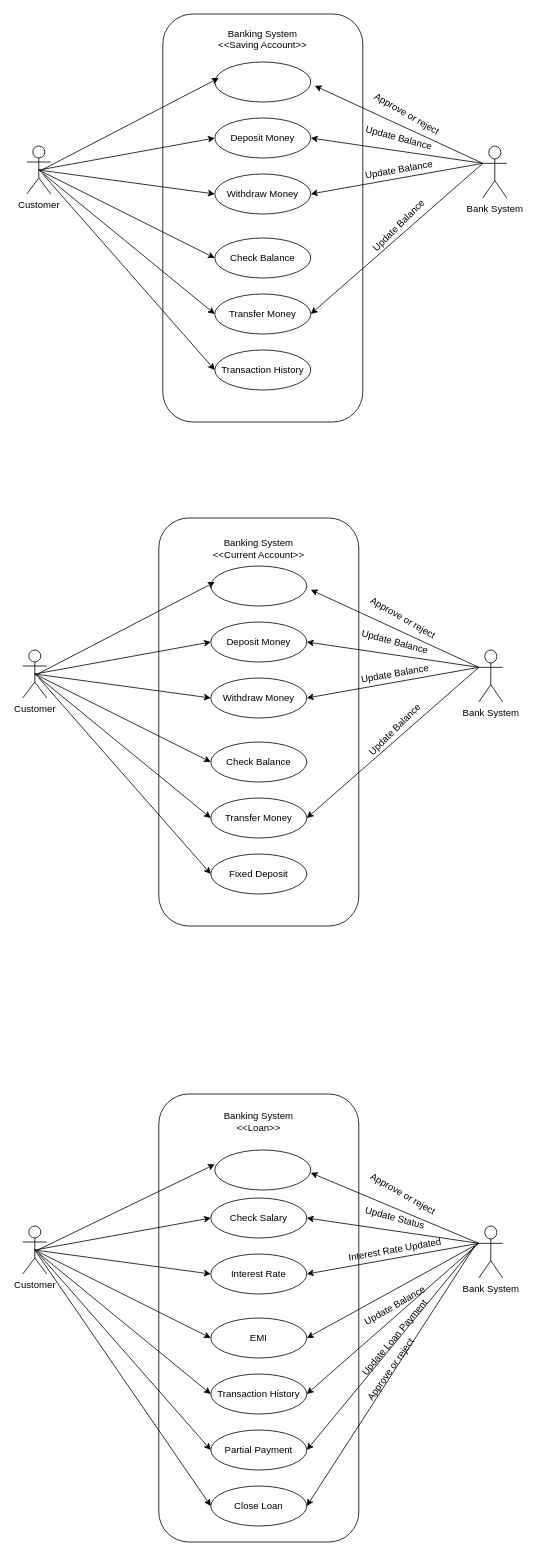
Image size: 537x1556. Some labels were removed from this diagram. Here are the shapes that lost their labels. From the top down, the centre of each, then its label:
At pixel 262 81: "Create Saving Account".
At pixel 258 585: "Create Current Account".
At pixel 262 1169: "Apply Loan".
